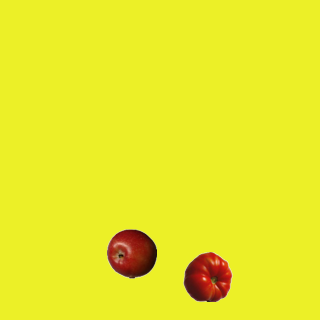Apple Braeburn: (106, 228, 156, 278)
Tomato 3: (182, 251, 232, 301)
